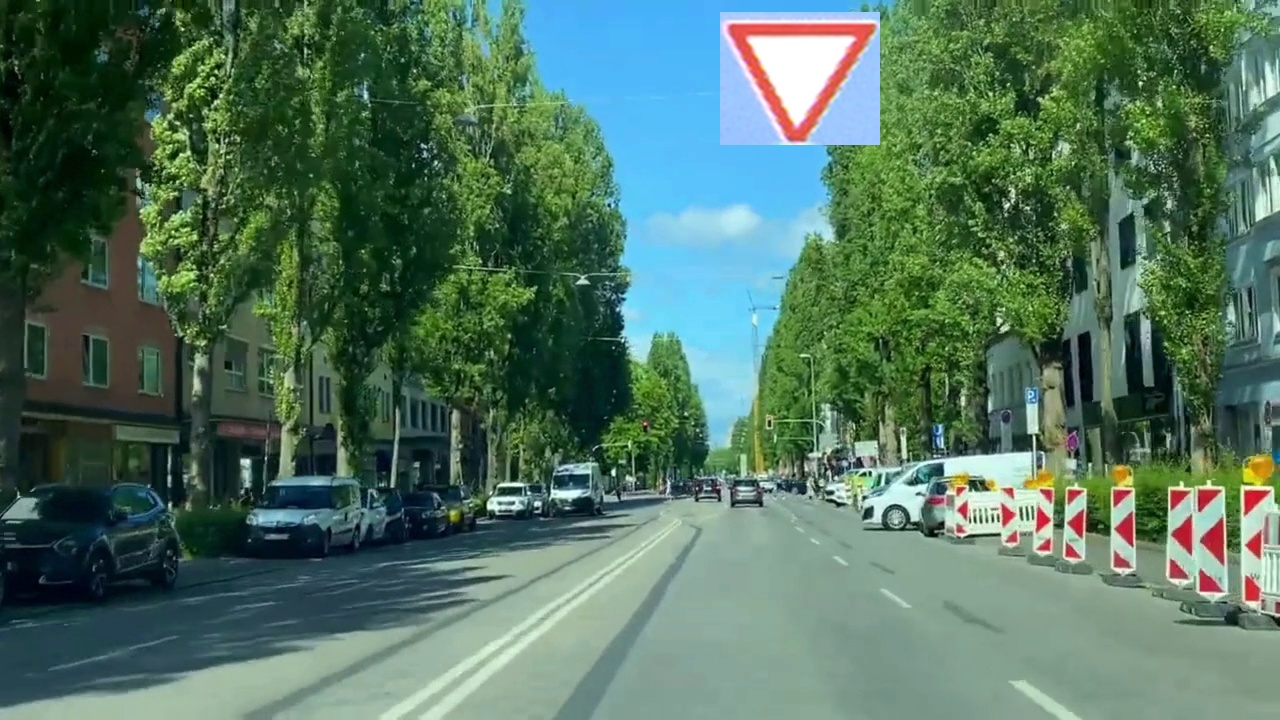Yield: (720, 12, 880, 145)
